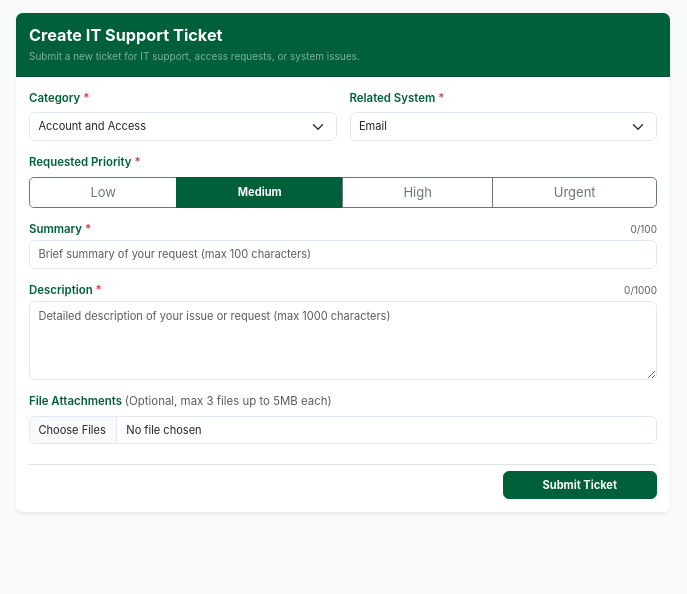
Scenario: Lab 02 - CreateTicketForm Component & Integration Suite › preserves input values on API failure and displays error banner
Type "Password Reset Request" into the field with test id "summary-input" at [343, 255], box top-left (29, 240), bottom-right (657, 269)
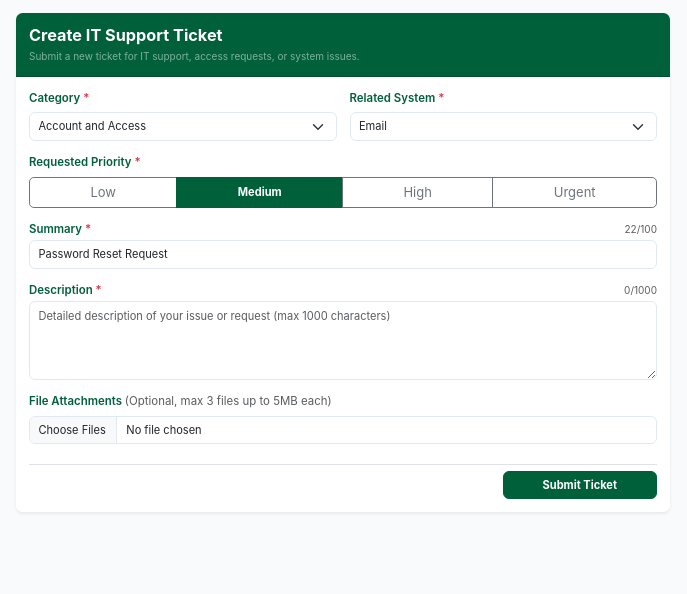
Replace the text in the text box with test id "description-input" with "Please reset active directory password." at [343, 341], box top-left (29, 301), bottom-right (657, 380)
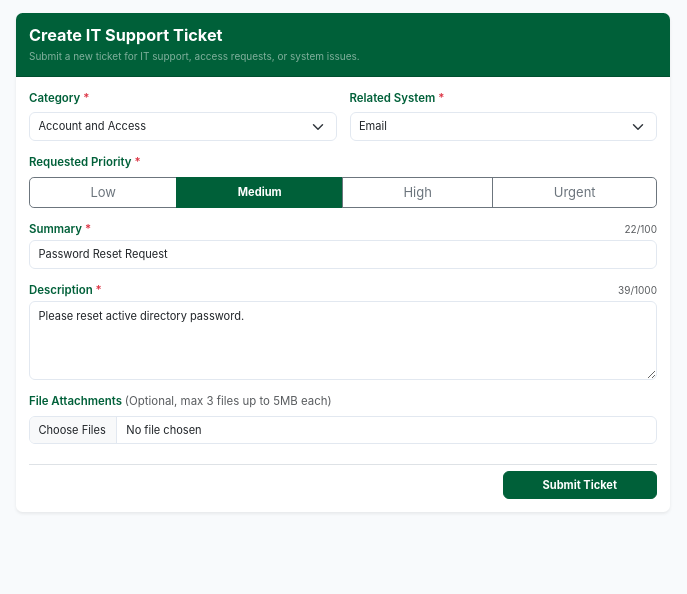
Click the button with test id "submit-ticket-btn" at [580, 485], box top-left (502, 472), bottom-right (657, 499)
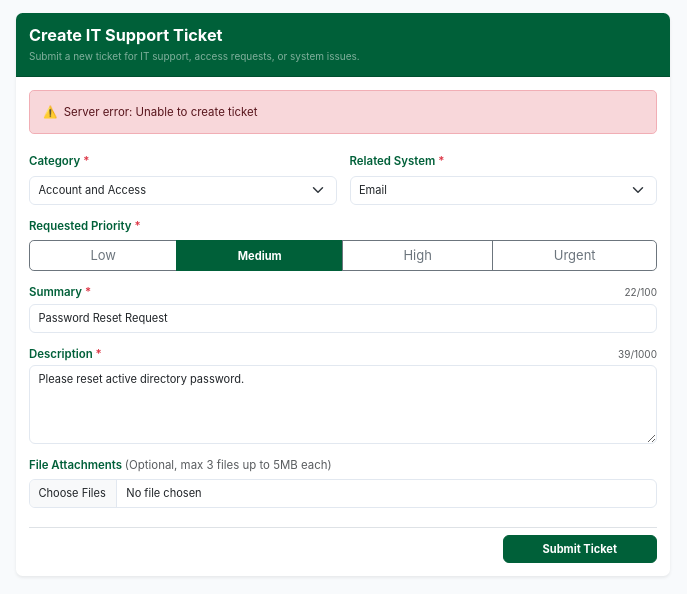
Expected: the message with test id "api-error-banner" shows "Server error: Unable to create ticket", top-left (64, 105), bottom-right (258, 119)
